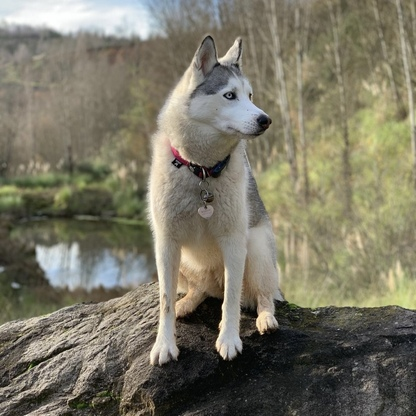husky: (139, 30, 289, 370)
